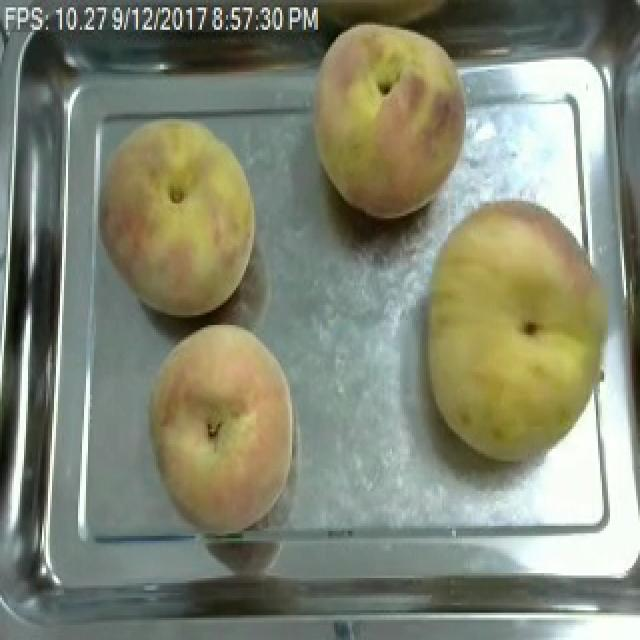Fruit: (410, 186, 632, 471), (300, 10, 480, 228), (86, 109, 266, 323), (142, 317, 302, 536)
